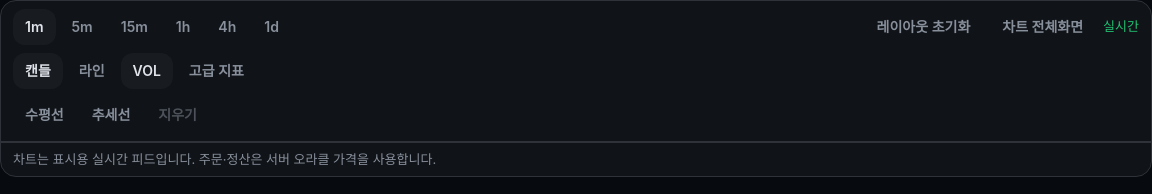
Test: TradeChartPanel › shows trend drawing hint when trend tool is active
The width and height of the screenshot is (1152, 194).
Click the button with test id "trade-chart-draw-trend". click: (111, 115)
box: x1=80 y1=97 x2=142 y2=133
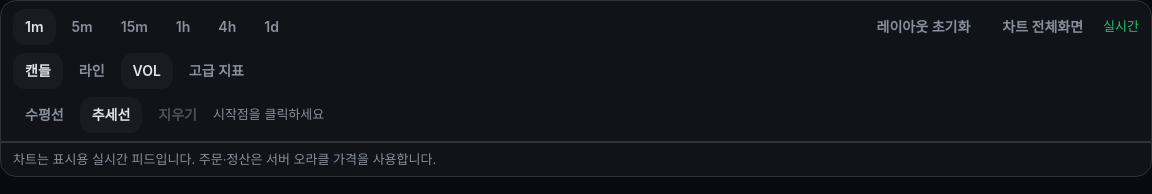
Result: the text with test id "trade-chart-draw-trend-hint" reads "시작점을 클릭하세요" at x1=213 y1=106 x2=324 y2=122
